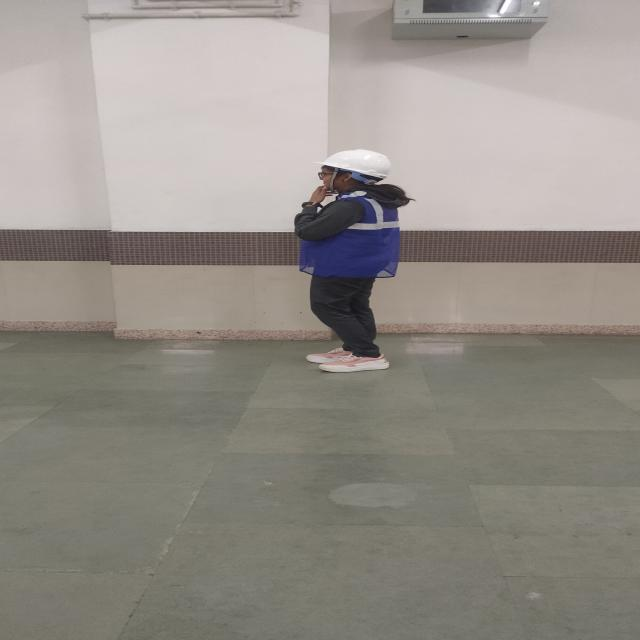safe: (295, 150, 409, 372)
